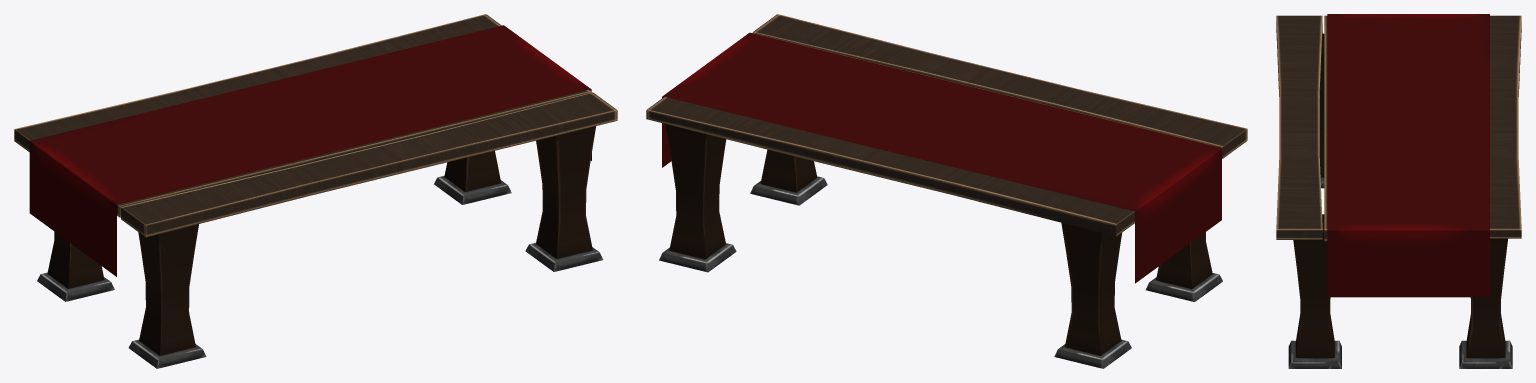
Rendered from SM_table.fbx.
3 renders of one model, left to right at view 1: azimuth 30°, elevation 25°; view 2: azimuth 150°, elevation 25°; view 3: azimuth 270°, elevation 25°, orthographic. The views are drawn at different scales.
Parts seen in each view (by area): view 1: SM_table; view 2: SM_table; view 3: SM_table.
Part boxes in pixels (left/top/right/bottom): SM_table: left=14, top=14, right=617, bottom=368; SM_table: left=646, top=14, right=1247, bottom=368; SM_table: left=1276, top=14, right=1521, bottom=368.
Bounding box in the file's own units: 6.5 × 2.01 × 3.12.
